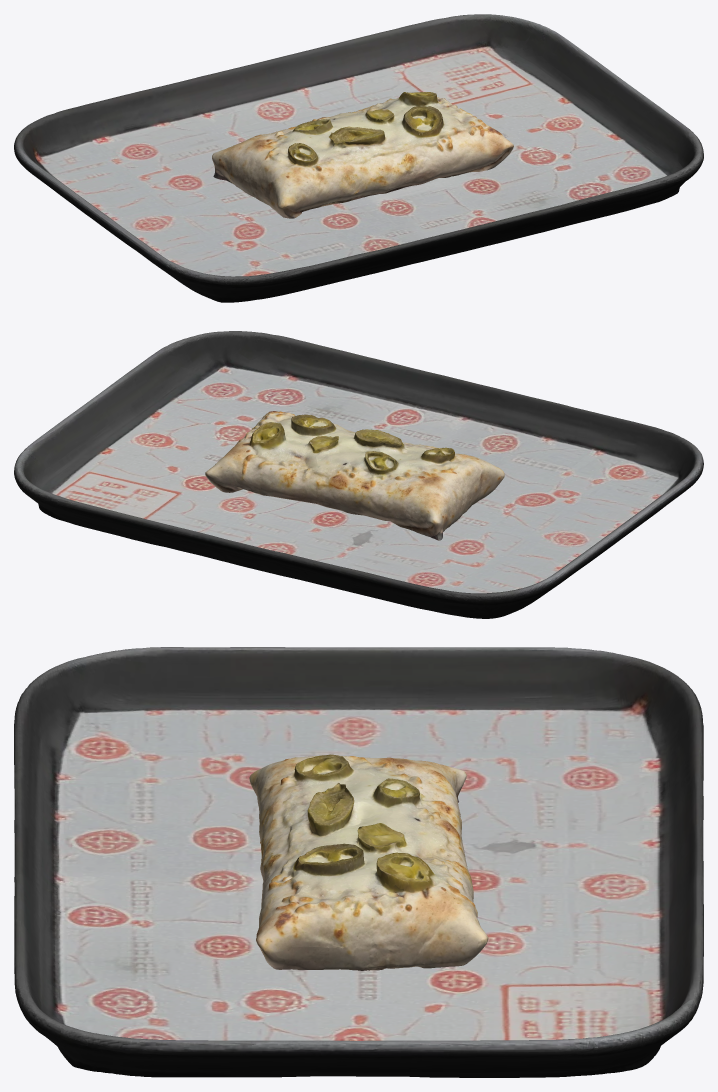
File: spicy.king.01.glb
3 views of the same model, one above another, from view 1: azimuth 30°, elevation 25°; view 2: azimuth 150°, elevation 25°; view 3: azimuth 270°, elevation 25° (orthographic). The views are drawn at different scales.
Visible parts, largest first — view 1: /Root/Scenes/Scene/Object_37/Object_41/Object_42/Submesh_0, /Root/Scenes/Scene/Object_37/Object_38/Submesh_0; view 2: /Root/Scenes/Scene/Object_37/Object_41/Object_42/Submesh_0, /Root/Scenes/Scene/Object_37/Object_38/Submesh_0; view 3: /Root/Scenes/Scene/Object_37/Object_41/Object_42/Submesh_0, /Root/Scenes/Scene/Object_37/Object_38/Submesh_0.
Part boxes in pixels (x1,y1,x2,y2): /Root/Scenes/Scene/Object_37/Object_41/Object_42/Submesh_0: (14, 14, 703, 302); /Root/Scenes/Scene/Object_37/Object_38/Submesh_0: (212, 92, 513, 218); /Root/Scenes/Scene/Object_37/Object_41/Object_42/Submesh_0: (14, 331, 703, 618); /Root/Scenes/Scene/Object_37/Object_38/Submesh_0: (205, 411, 504, 540); /Root/Scenes/Scene/Object_37/Object_41/Object_42/Submesh_0: (14, 647, 703, 1077); /Root/Scenes/Scene/Object_37/Object_38/Submesh_0: (249, 754, 488, 970).
Size of the model in its own units: 0.4367 by 0.049 by 0.3194.
2 materials, 2 textured.
